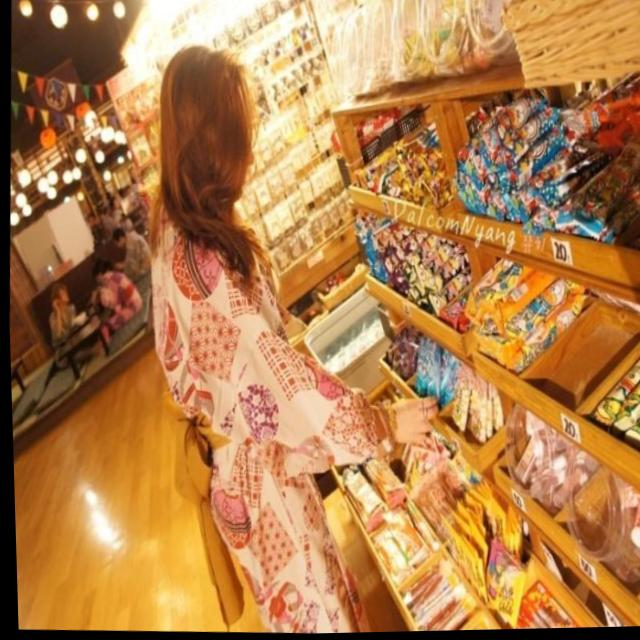no helmet: (144, 63, 253, 258)
